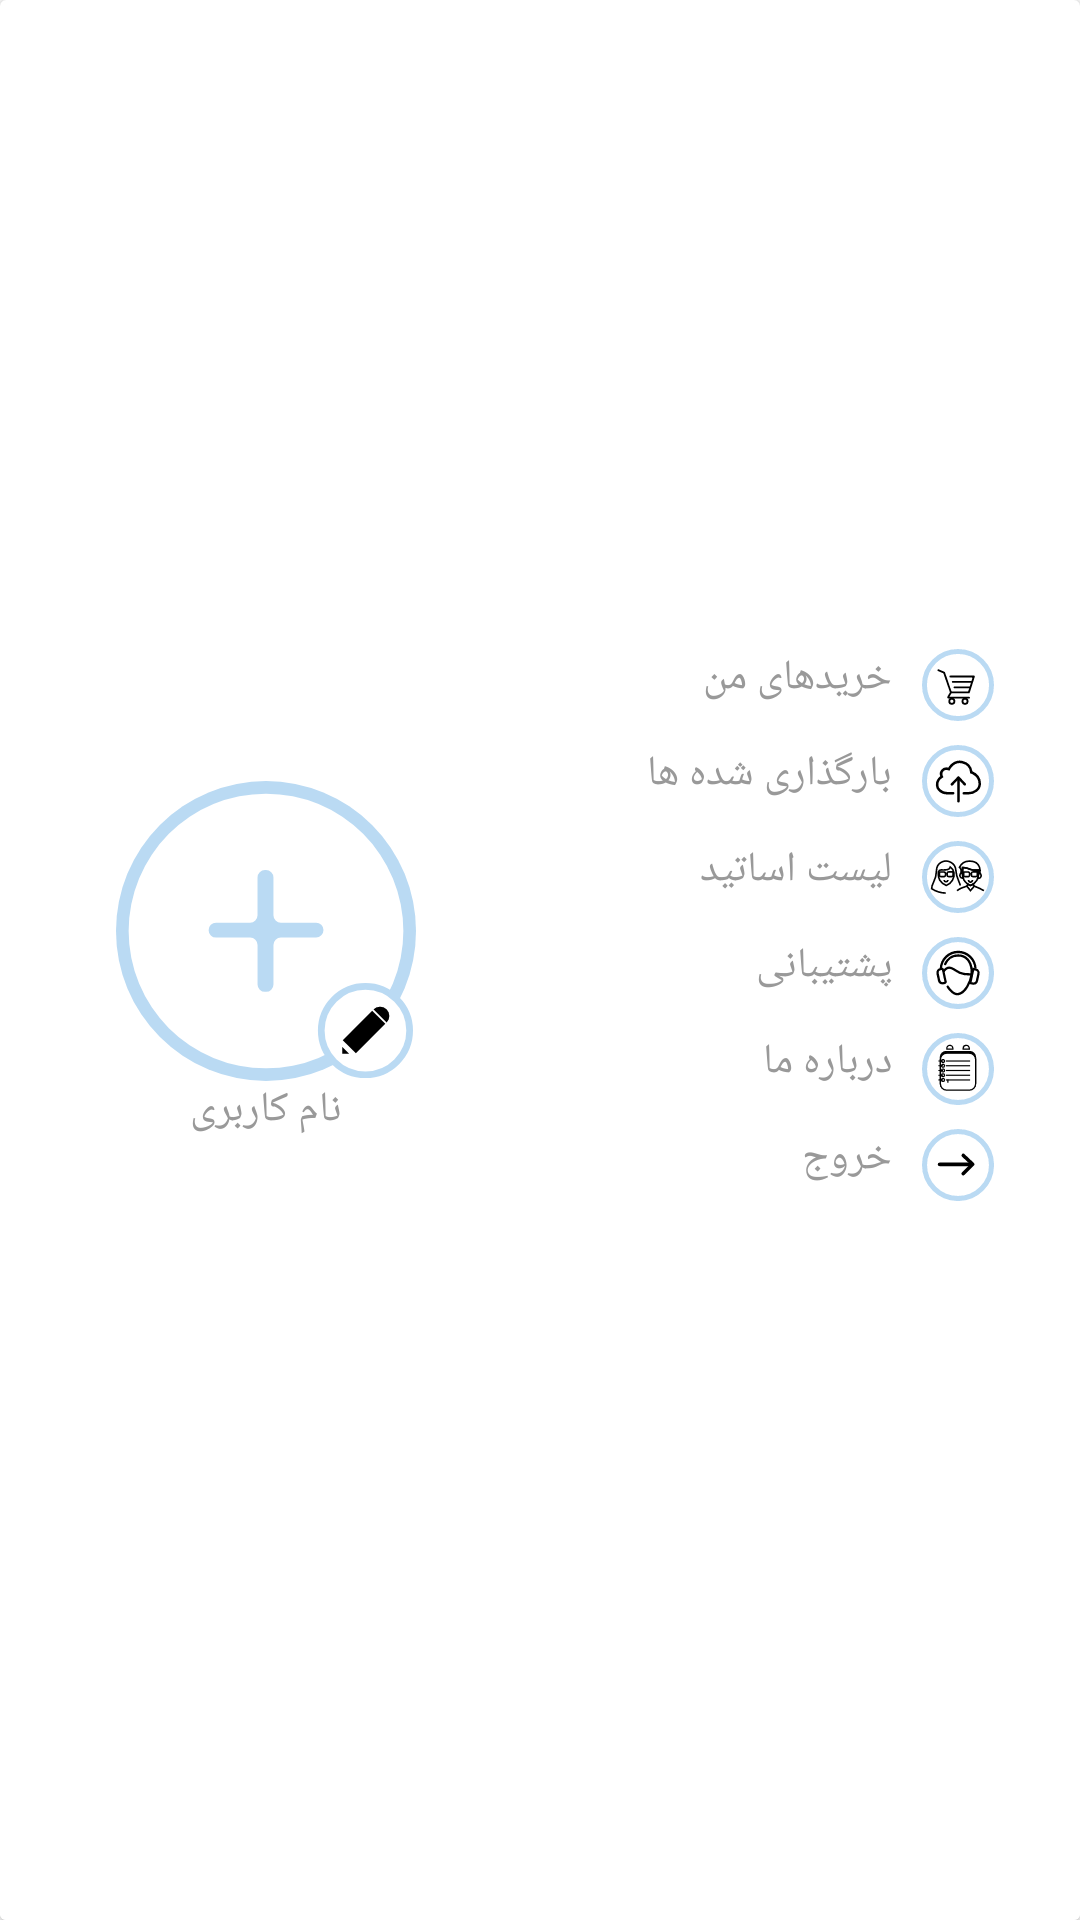

Point at icon controls on the screen. Image size 1080 x 1920, points as (x=x, y=y).
about us: (x=958, y=1069)
add edit: (x=266, y=931)
buy: (x=958, y=685)
exit: (x=958, y=1165)
supoort: (x=958, y=973)
upload: (x=958, y=781)
